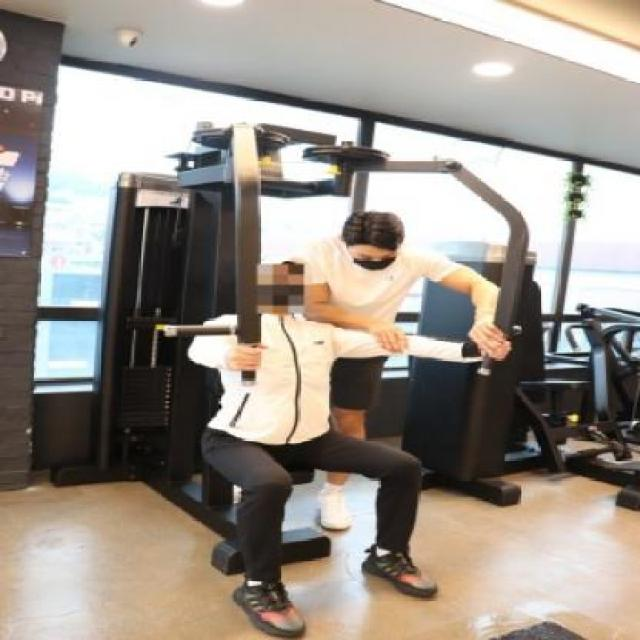chest fly machine: (38, 106, 554, 640)
